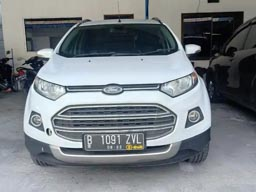plat: (84, 134, 145, 144)
